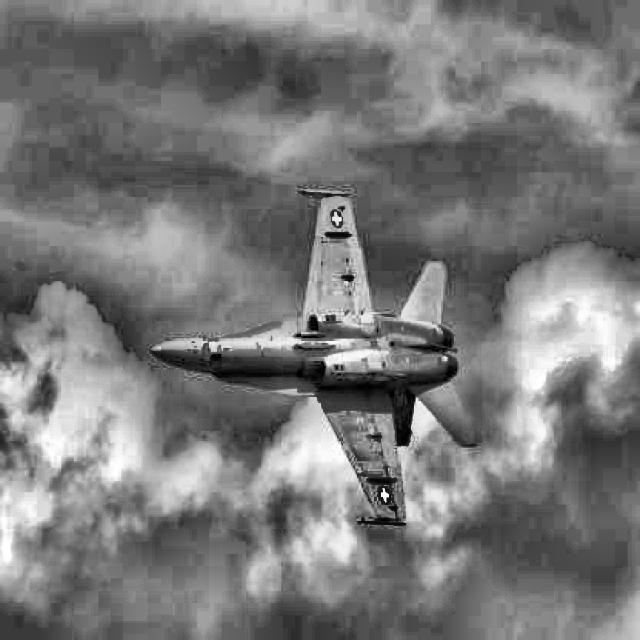F18: (150, 188, 478, 526)
